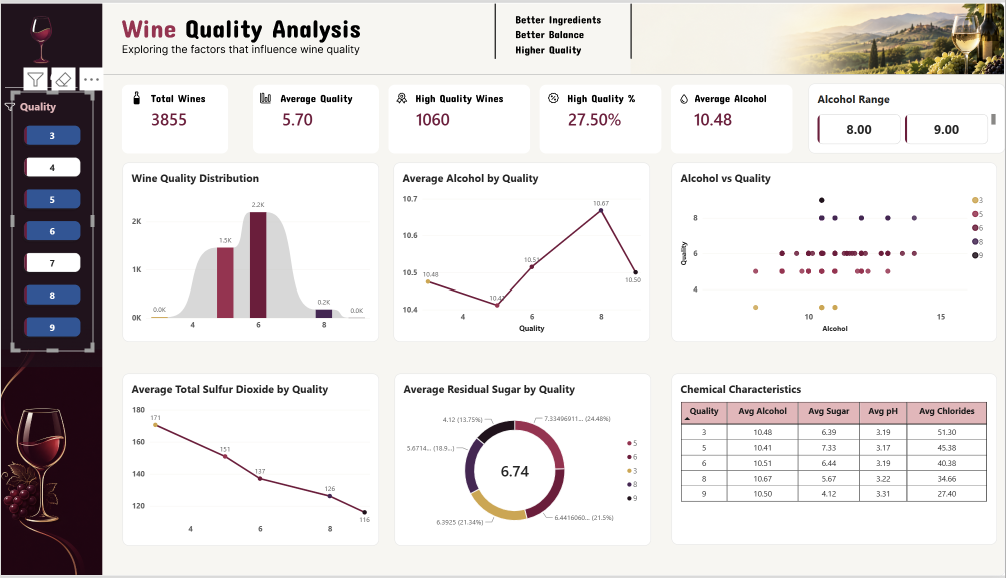

The page's visual inventory and layout, read from the dashboard file:
{"tool":"powerbi","page":{"name":"Page 1","canvas":[1920,1080],"ordinal":0},"visuals":[{"type":"image","box":[0,0,1920,1080.5],"z":0},{"type":"columnChart","title":"Wine Quality Distribution","fields":{"Category":["winequality_white_new.quality"],"Y":["winequality_white_new.Total Quantity"]},"box":[254.3,302.2,483.8,336.6],"z":1000},{"type":"lineChart","title":"Average Alcohol by Quality","fields":{"Category":["winequality_white_new.quality"],"Y":["Avg(winequality_white_new.alcohol_new)"]},"box":[766.9,302.2,483.8,336.6],"z":2000},{"type":"scatterChart","title":"Alcohol vs Quality","fields":{"Category":["winequality_white_new.wine_id"],"Series":["winequality_white_new.quality"],"X":["Avg(winequality_white_new.alcohol_new)"],"Y":["Avg(winequality_white_new.quality)"]},"box":[1290.8,302.2,613.9,336.6],"z":3000},{"type":"donutChart","title":"Average Residual Sugar by Quality","fields":{"Category":["winequality_white_new.quality"],"Y":["Avg(winequality_white_new.residual sugar)"]},"box":[768.8,698,483.8,325.1],"z":4000},{"type":"lineChart","title":"Average Total Sulfur Dioxide by Quality","fields":{"Category":["winequality_white_new.quality"],"Y":["Avg(winequality_white_new.total sulfur dioxide)"]},"box":[254.3,698,483.8,325.1],"z":5000},{"type":"tableEx","title":"Chemical Characteristics","fields":{"Values":["Sum(winequality_white_new.quality)","winequality_white_new.Average Alcohol","Avg(winequality_white_new.residual sugar)","Avg(winequality_white_new.pH)","Avg(winequality_white_new.chlorides)"]},"box":[1290.8,698,613.9,323.2],"z":6000},{"type":"cardVisual","fields":{"Data":["winequality_white_new.Total Quantity"]},"box":[292.6,162.5,135.8,114.7],"z":7000},{"type":"cardVisual","fields":{"Data":["winequality_white_new.Average Quality"]},"box":[539.3,162.5,120.5,114.7],"z":8000},{"type":"cardVisual","fields":{"Data":["winequality_white_new.High Quality Wines"]},"box":[791.7,162.5,120.5,114.7],"z":9000},{"type":"cardVisual","fields":{"Data":["winequality_white_new.High Quality %"]},"box":[1078.6,162.5,147.3,114.7],"z":10000},{"type":"cardVisual","fields":{"Data":["winequality_white_new.Average Alcohol"]},"box":[1317.6,162.5,147.3,114.7],"z":11000},{"type":"advancedSlicerVisual","title":"Alcohol Range","fields":{"Values":["winequality_white_new.alcohol_new"]},"box":[1548.8,153.8,371,132],"z":12000},{"type":"advancedSlicerVisual","fields":{"Values":["winequality_white_new.Quality"]},"box":[45.3,167.9,154.7,488.7],"z":12001}]}

Visuals, with their boxes on the page's 1920x1080 design canvas (x1, y1, x2, y2). These are canvas units, not pixel positions in the 1008x578 screenshot, which may show the page scaled, cropped or inside an application window:
image: box(0, 0, 1920, 1080)
"Wine Quality Distribution" columnChart: box(254, 302, 738, 639)
"Average Alcohol by Quality" lineChart: box(767, 302, 1251, 639)
"Alcohol vs Quality" scatterChart: box(1291, 302, 1905, 639)
"Average Residual Sugar by Quality" donutChart: box(769, 698, 1253, 1023)
"Average Total Sulfur Dioxide by Quality" lineChart: box(254, 698, 738, 1023)
"Chemical Characteristics" tableEx: box(1291, 698, 1905, 1021)
cardVisual - winequality_white_new.Total Quantity: box(293, 162, 428, 277)
cardVisual - winequality_white_new.Average Quality: box(539, 162, 660, 277)
cardVisual - winequality_white_new.High Quality Wines: box(792, 162, 912, 277)
cardVisual - winequality_white_new.High Quality %: box(1079, 162, 1226, 277)
cardVisual - winequality_white_new.Average Alcohol: box(1318, 162, 1465, 277)
"Alcohol Range" advancedSlicerVisual: box(1549, 154, 1920, 286)
advancedSlicerVisual - winequality_white_new.Quality: box(45, 168, 200, 657)
